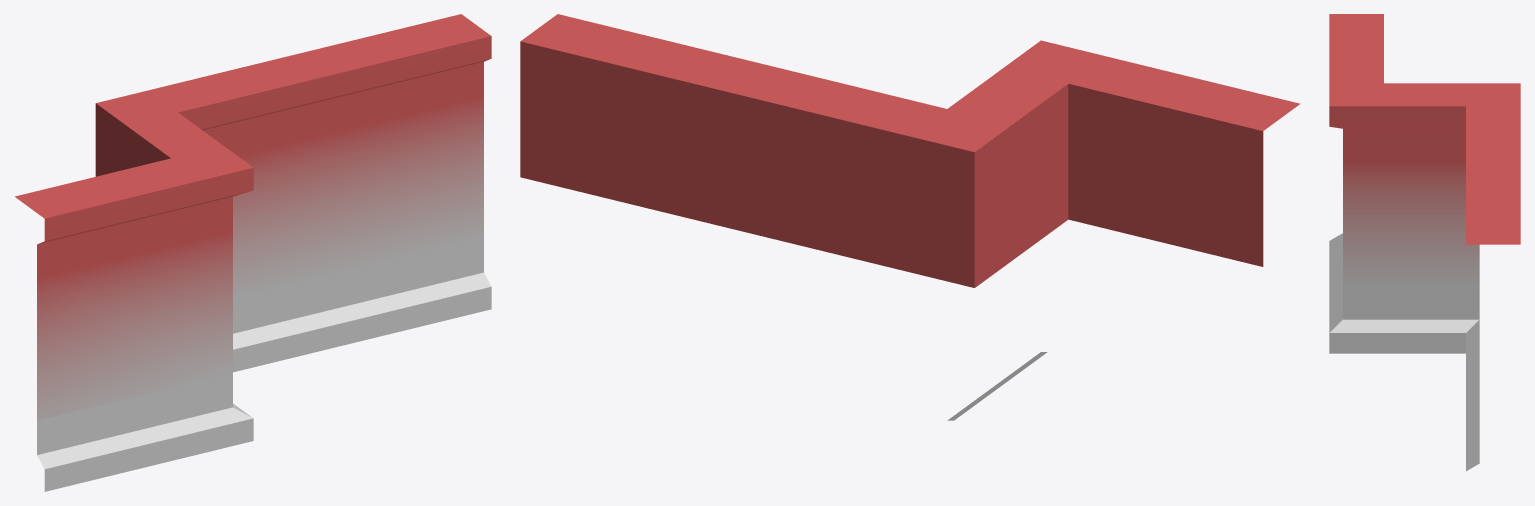
Rendered from Cornice_Metal_90Angle_L.gltf.
3 views of the same model, side by side, from view 1: azimuth 30°, elevation 25°; view 2: azimuth 150°, elevation 25°; view 3: azimuth 270°, elevation 25° (orthographic). The views are drawn at different scales.
Visible parts, largest first — view 1: Cornice_Metal_90Angle_L; view 2: Cornice_Metal_90Angle_L; view 3: Cornice_Metal_90Angle_L.
Part boxes in pixels (bbox=[...]): Cornice_Metal_90Angle_L: bbox=[15, 14, 491, 491]; Cornice_Metal_90Angle_L: bbox=[520, 14, 1300, 420]; Cornice_Metal_90Angle_L: bbox=[1329, 14, 1520, 471].
Size of the model in its own units: 2 by 1 by 0.7.
